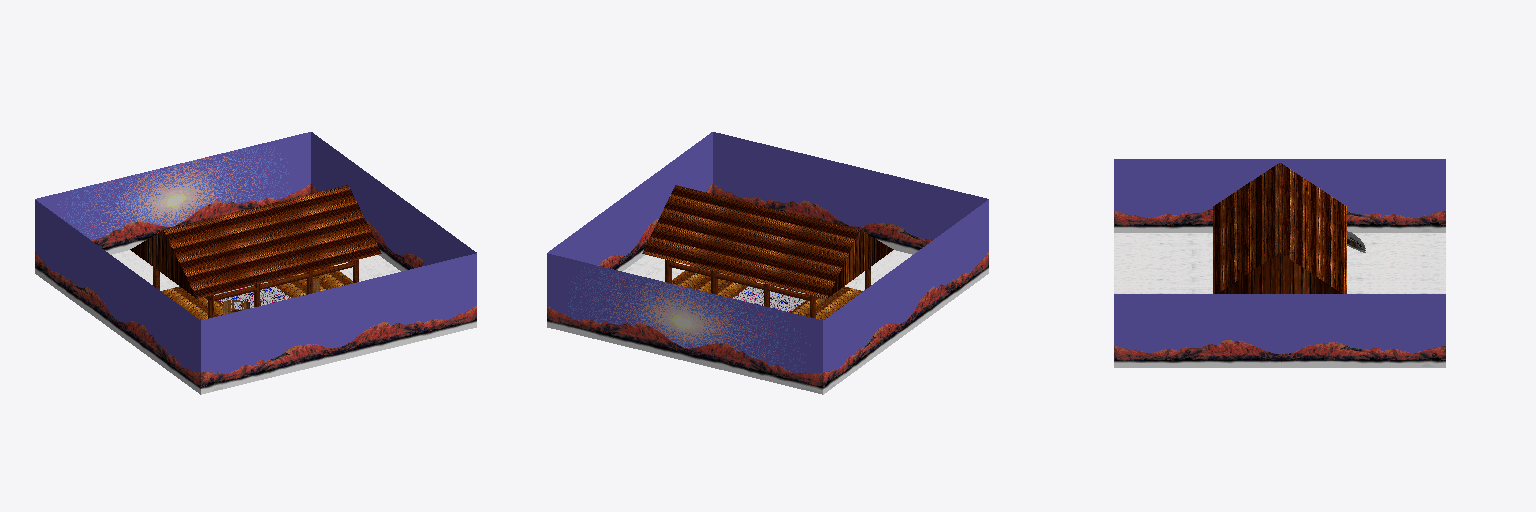
3 views of the same model, side by side, from view 1: azimuth 30°, elevation 25°; view 2: azimuth 150°, elevation 25°; view 3: azimuth 270°, elevation 25° (orthographic).
Visible parts, largest first — view 1: Plane, Plane.004_Plane.012, Cube.002_Cube.004, Cube_Cube.001; view 2: Plane, Plane.004_Plane.012, Cube.002_Cube.004, Cube_Cube.001; view 3: Plane, Plane.004_Plane.012.
Boxes of the visible parts, <box> form: Plane: <box>35,132,476,394</box>; Plane.004_Plane.012: <box>130,185,381,298</box>; Cube.002_Cube.004: <box>214,262,355,300</box>; Cube_Cube.001: <box>153,260,358,318</box>; Plane: <box>547,132,988,394</box>; Plane.004_Plane.012: <box>642,185,893,298</box>; Cube.002_Cube.004: <box>669,262,809,300</box>; Cube_Cube.001: <box>665,260,870,318</box>; Plane: <box>1114,159,1445,367</box>; Plane.004_Plane.012: <box>1213,163,1346,293</box>.
Bounding box in the file's own units: 4.8 × 1.61 × 4.99.
Materials: 9 (9 with a texture image).